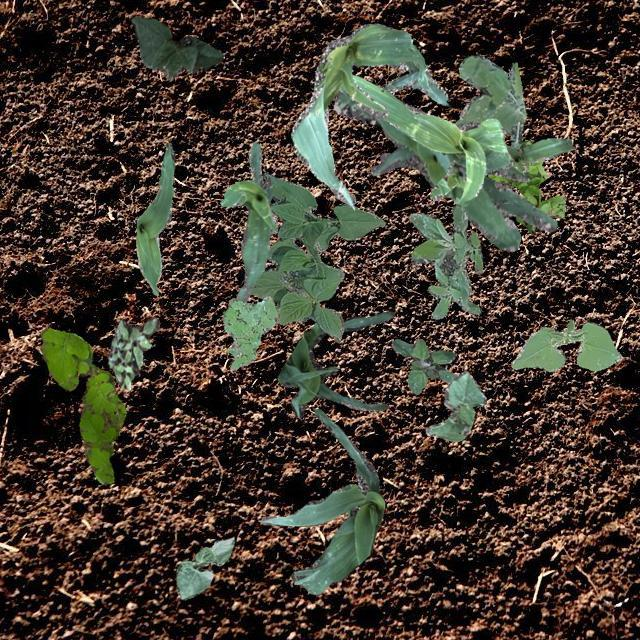crop: (332, 90, 556, 250), (289, 22, 446, 208), (258, 406, 384, 594), (248, 172, 384, 342), (350, 74, 512, 205), (276, 310, 392, 416), (220, 140, 276, 302), (453, 119, 572, 174), (134, 142, 174, 294), (509, 318, 622, 371), (130, 15, 222, 78), (424, 370, 486, 440), (174, 536, 233, 598)
weed: (40, 326, 126, 484), (408, 202, 482, 318), (486, 140, 564, 232), (458, 54, 526, 148), (222, 294, 276, 370), (106, 316, 160, 388), (391, 338, 456, 393)
